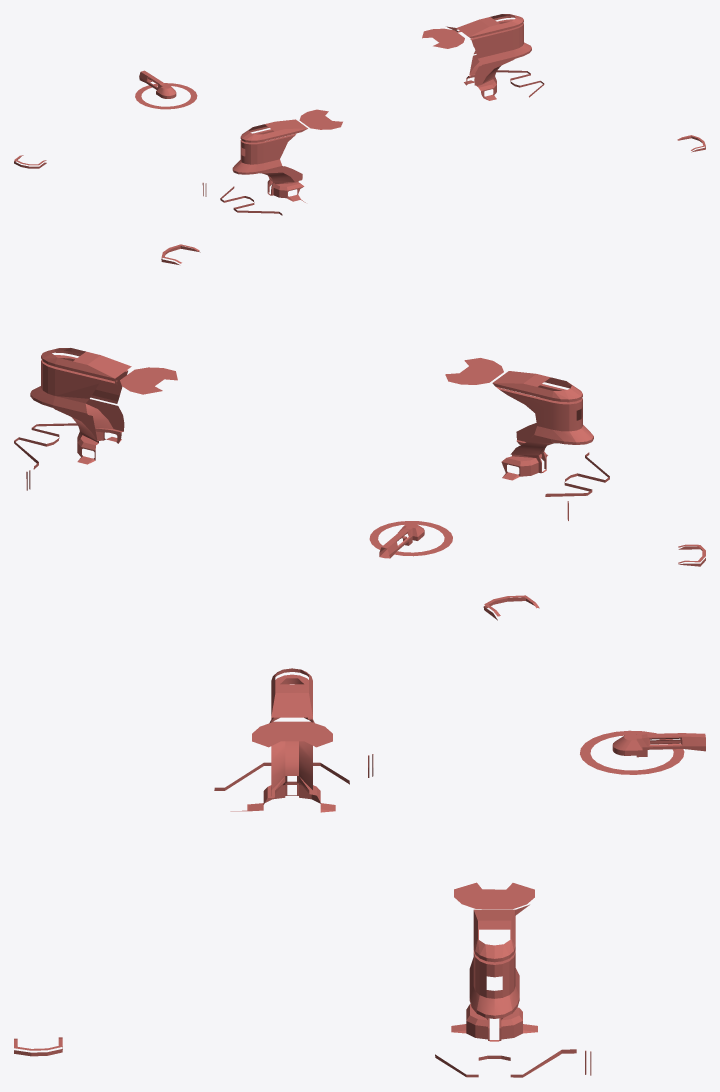
Rendered from cluster4.fbx.
3 views of the same model, one above another, from view 1: azimuth 30°, elevation 25°; view 2: azimuth 150°, elevation 25°; view 3: azimuth 270°, elevation 25° (orthographic). The views are drawn at different scales.
Visible parts, largest first — view 1: cluster4; view 2: cluster4; view 3: cluster4.
Boxes of the visible parts, x1,y1,x2,y2 form: cluster4: [14, 14, 705, 215]; cluster4: [14, 244, 705, 566]; cluster4: [14, 595, 705, 1077].
Bounding box in the file's own units: 1197144 × 185900 × 786404.
